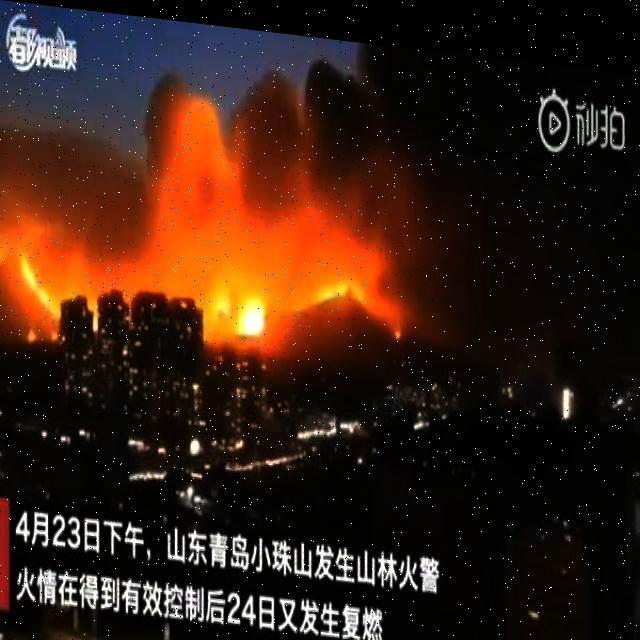Fire: (206, 234, 387, 364), (14, 240, 63, 318)
